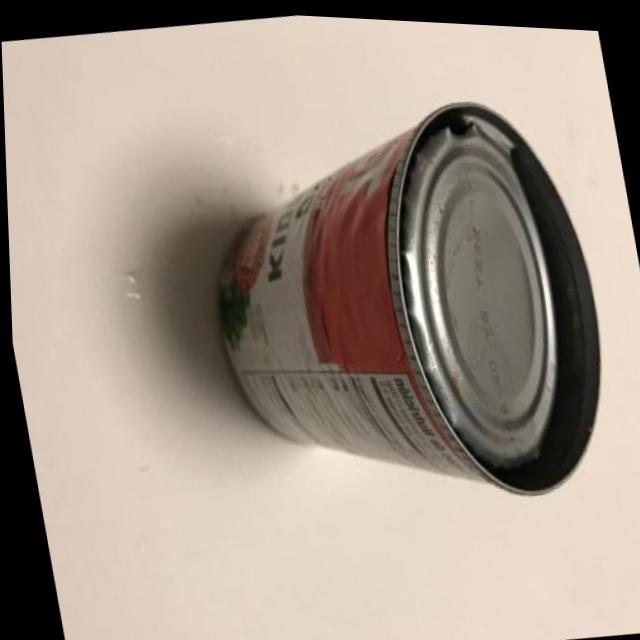metal: (218, 90, 639, 491)
